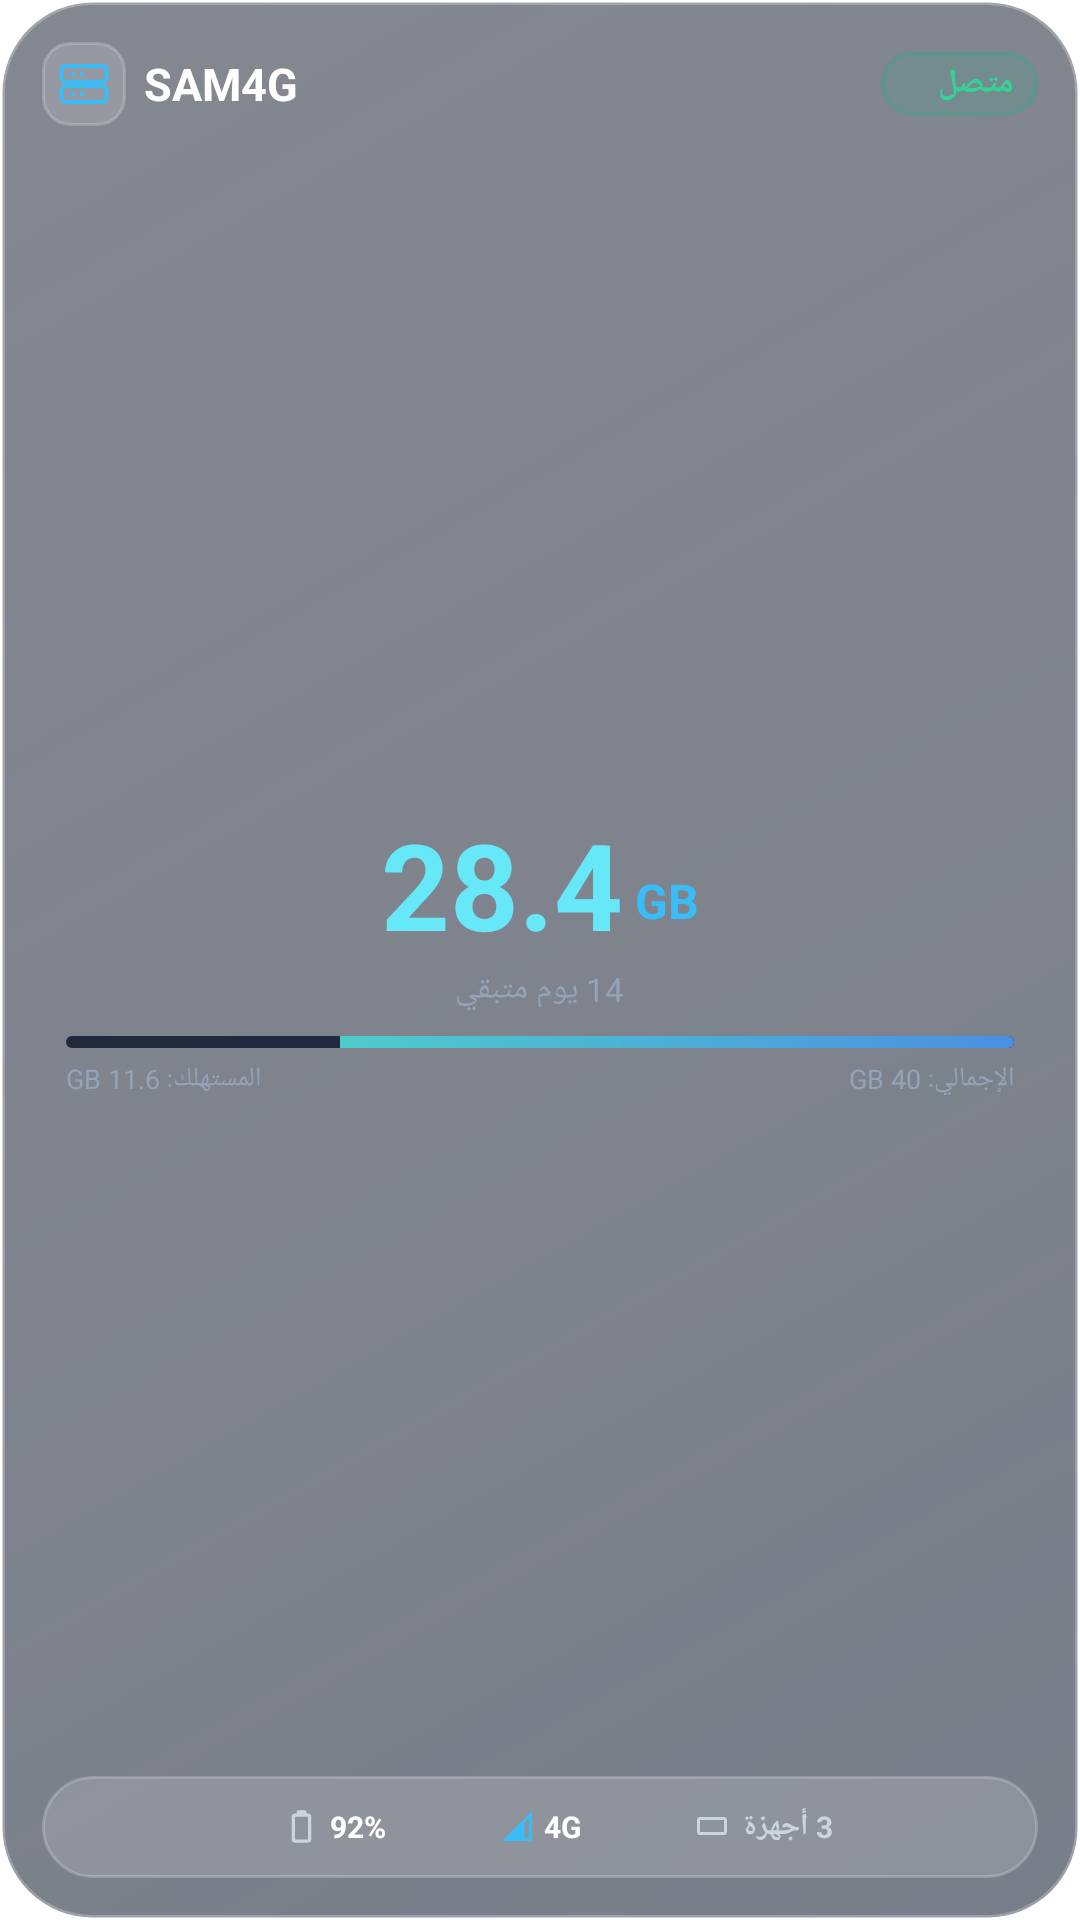

Icon click points for this 1080×1920 phone screenshot, format [x,y]:
widget battery: [301,1826]
widget modem: [84,84]
widget signal: [517,1826]
